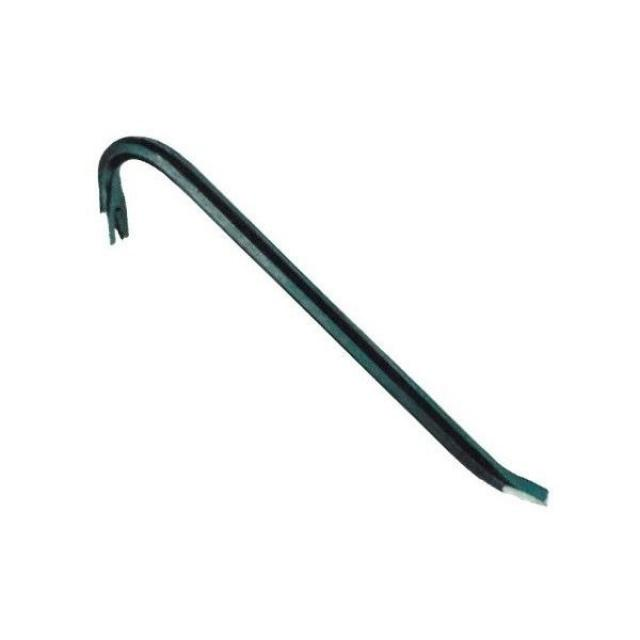Linggis: (99, 135, 553, 505)
